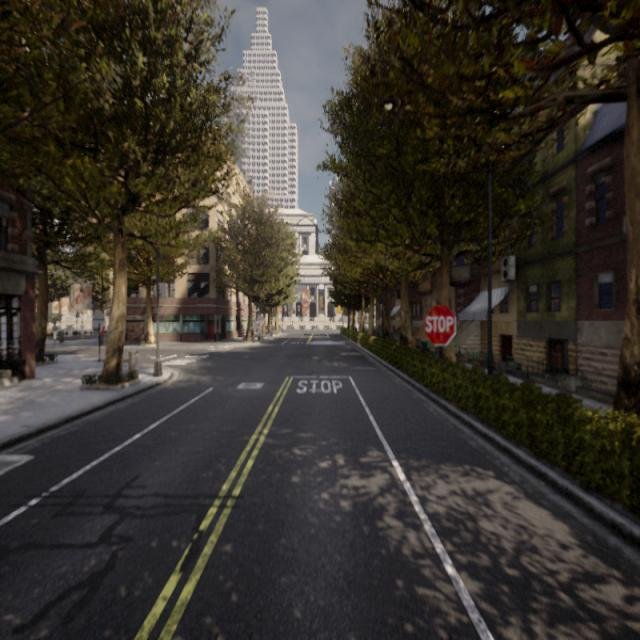stop sign: (422, 302, 458, 348)
